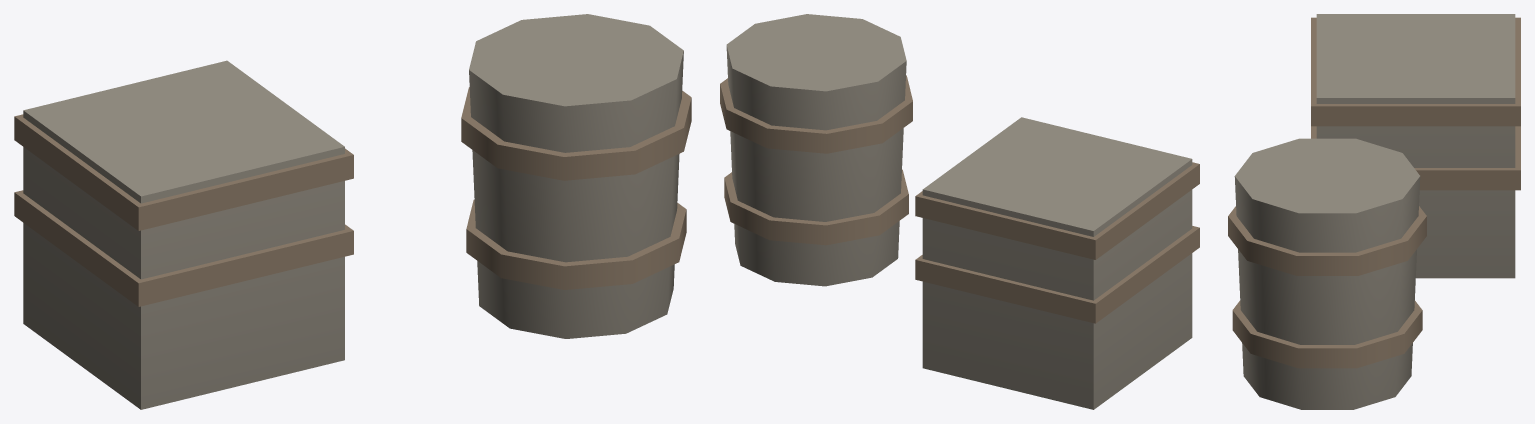
File: crate.glb
3 renders of one model, left to right at view 1: azimuth 30°, elevation 25°; view 2: azimuth 150°, elevation 25°; view 3: azimuth 270°, elevation 25°, orthographic. The views are drawn at different scales.
Parts seen in each view (by area): view 1: crate; view 2: crate; view 3: crate.
Boxes of the visible parts, left/top/right/bottom form: crate: left=14, top=14, right=691, bottom=409; crate: left=720, top=14, right=1199, bottom=409; crate: left=1228, top=14, right=1520, bottom=409.
Size of the model in its own units: 2.4 by 1 by 1.32.
